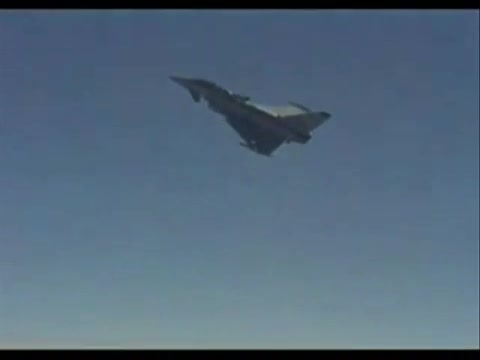aeroplane: (167, 70, 333, 159)
